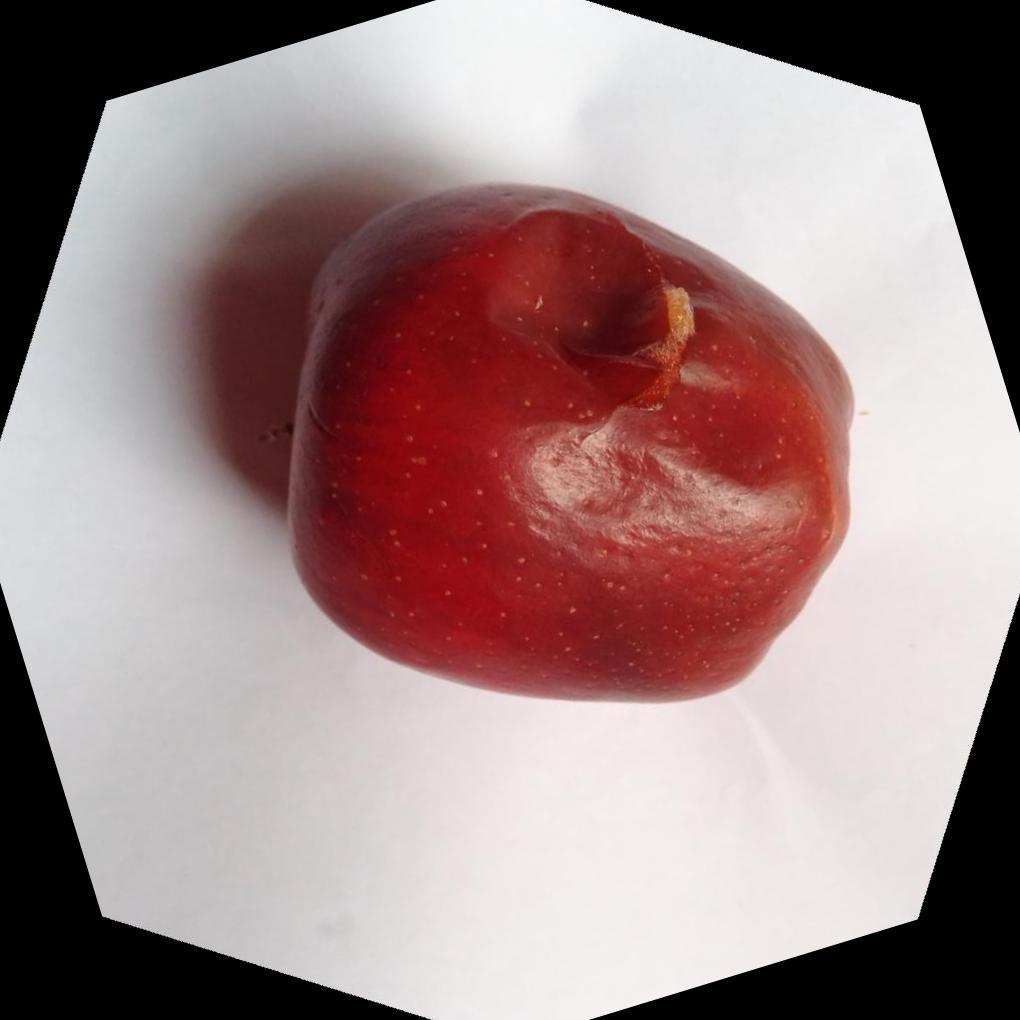FreshOrange: (279, 182, 853, 704)
